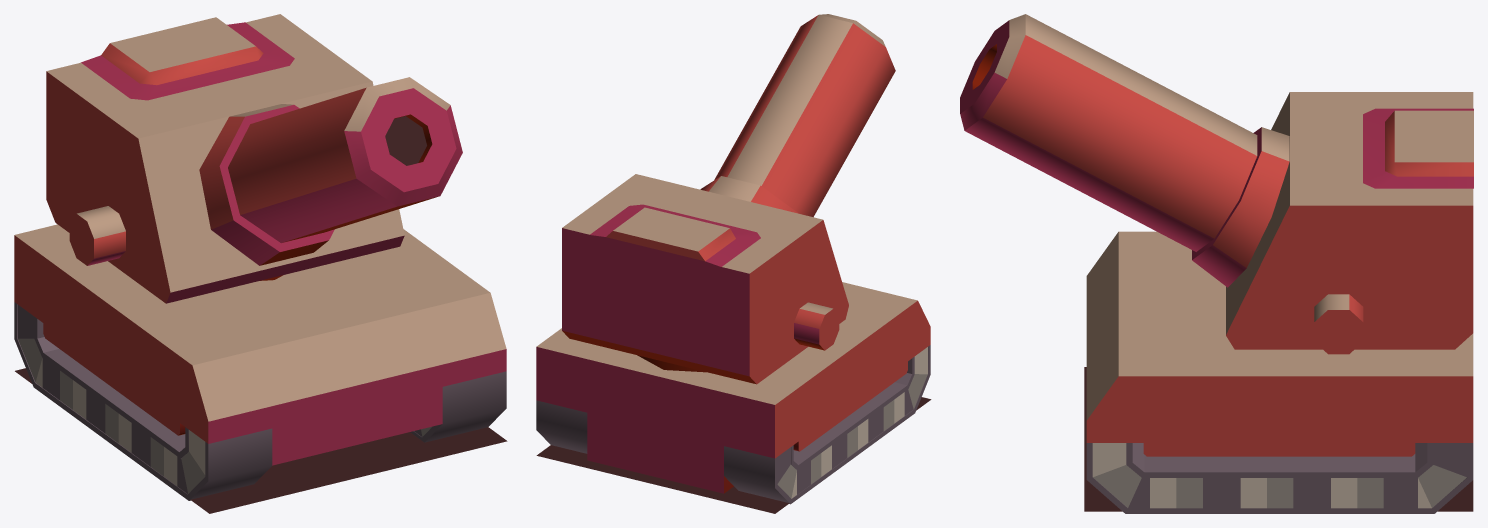
File: ArtillertyMesh.RedFire.glb
3 views of the same model, side by side, from view 1: azimuth 30°, elevation 25°; view 2: azimuth 150°, elevation 25°; view 3: azimuth 270°, elevation 25° (orthographic). The views are drawn at different scales.
Visible parts, largest first — view 1: ArtillertyMesh.RedFire; view 2: ArtillertyMesh.RedFire; view 3: ArtillertyMesh.RedFire.
Boxes of the visible parts, x1,y1,x2,y2 form: ArtillertyMesh.RedFire: (14, 14, 507, 513); ArtillertyMesh.RedFire: (536, 14, 931, 513); ArtillertyMesh.RedFire: (960, 14, 1473, 513).
Size of the model in its own units: 1.4 by 1.88 by 2.1.
Materials: 1 (1 with a texture image).
